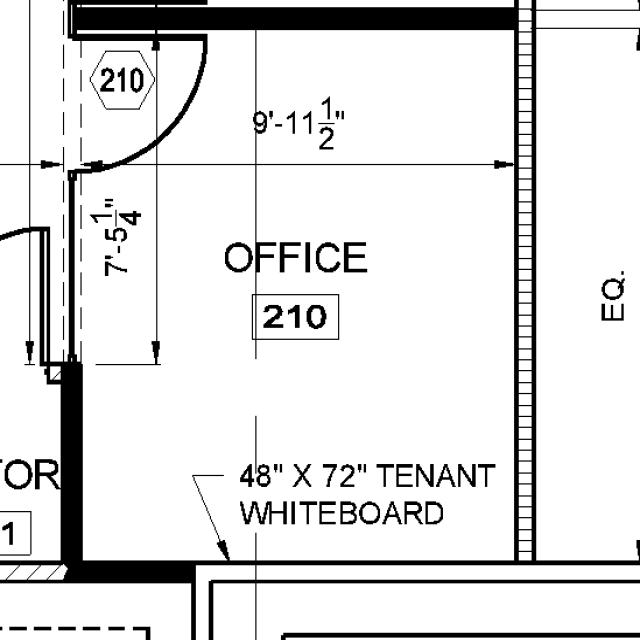Doors: (60, 30, 214, 177)
